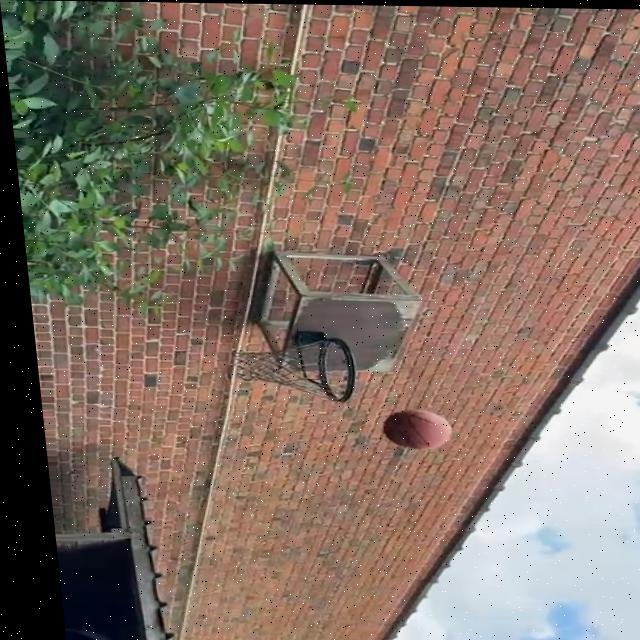Basketball: (380, 411, 454, 448)
